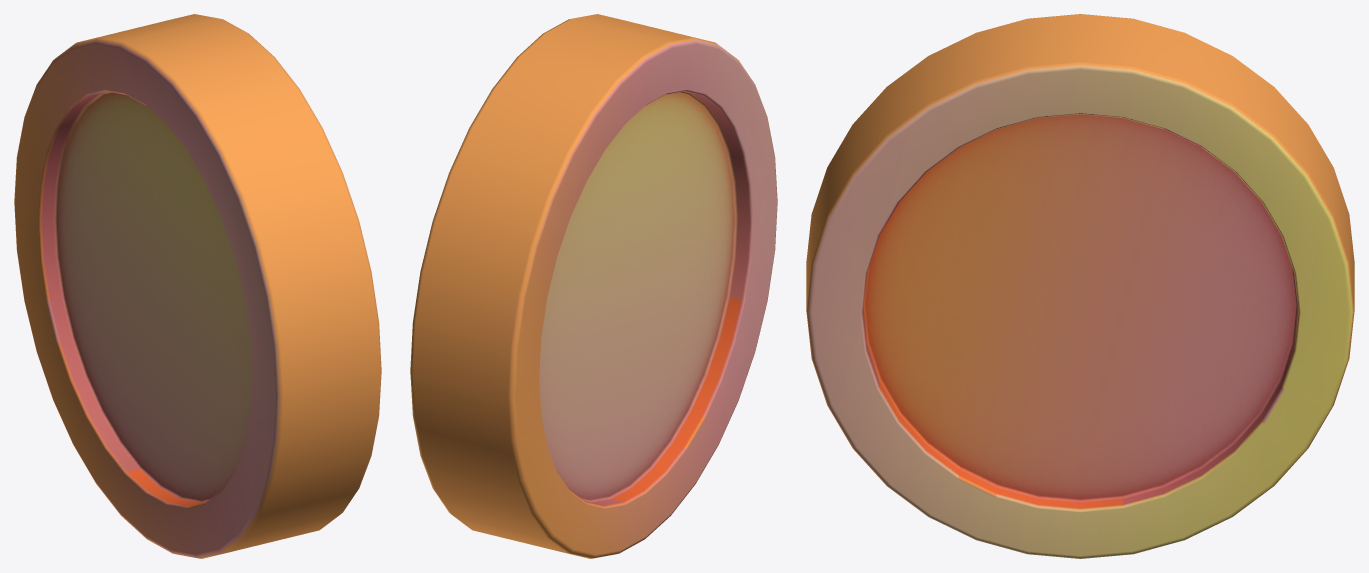
Rendered from coin04.fbx.
3 renders of one model, left to right at view 1: azimuth 30°, elevation 25°; view 2: azimuth 150°, elevation 25°; view 3: azimuth 270°, elevation 25°, orthographic. The views are drawn at different scales.
Visible parts, largest first — view 1: coin-lp.04; view 2: coin-lp.04; view 3: coin-lp.04.
Boxes of the visible parts, left/top/right/bottom form: coin-lp.04: left=14, top=14, right=381, bottom=558; coin-lp.04: left=410, top=14, right=777, bottom=558; coin-lp.04: left=806, top=14, right=1354, bottom=558.
Size of the model in its own units: 0.0607 by 0.2673 by 0.2673.
Materials: 1 (1 with a texture image).
